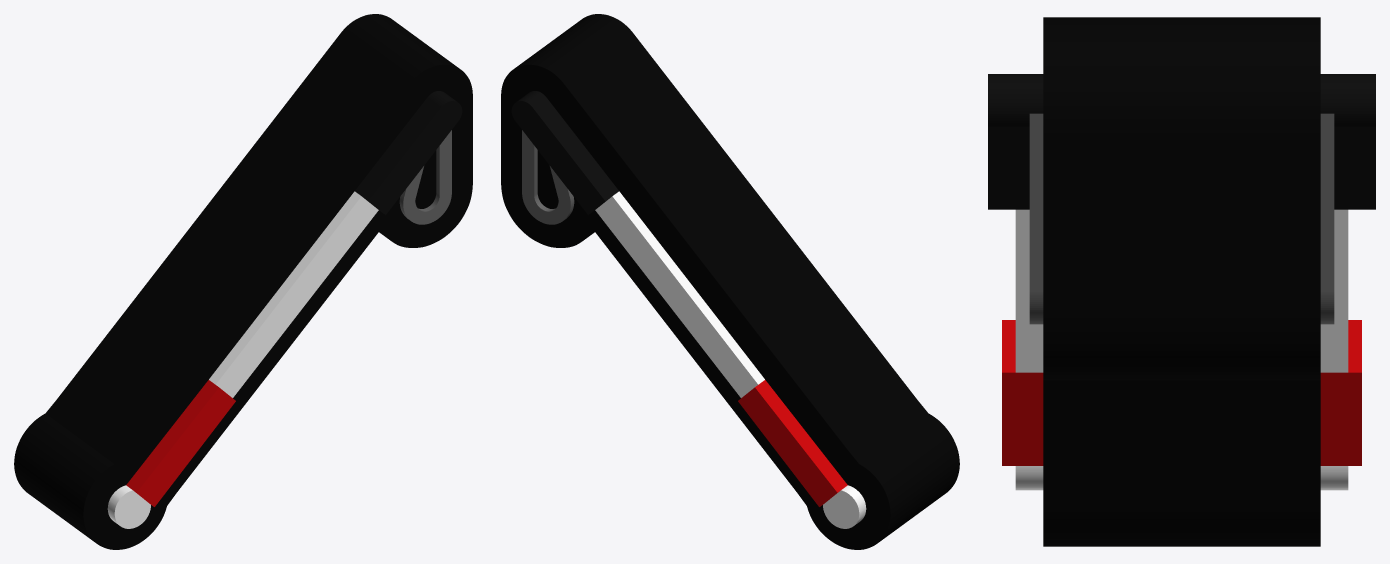
3 views of the same model, side by side, from view 1: azimuth 30°, elevation 25°; view 2: azimuth 150°, elevation 25°; view 3: azimuth 270°, elevation 25° (orthographic). The views are drawn at different scales.
Parts seen in each view (by area): view 1: U+1F9AF_layer00_obj00, U+1F9AF_layer02_obj00, U+1F9AF_layer04_obj00, U+1F9AF_layer03_obj00, U+1F9AF_layer01_obj00; view 2: U+1F9AF_layer00_obj00, U+1F9AF_layer02_obj00, U+1F9AF_layer04_obj00, U+1F9AF_layer03_obj00, U+1F9AF_layer01_obj00; view 3: U+1F9AF_layer00_obj00, U+1F9AF_layer04_obj00, U+1F9AF_layer03_obj00, U+1F9AF_layer02_obj00, U+1F9AF_layer01_obj00.
Part boxes in pixels (x1,y1,x2,y2): U+1F9AF_layer00_obj00: (14,14,472,549); U+1F9AF_layer02_obj00: (107,191,378,528); U+1F9AF_layer04_obj00: (355,91,462,214); U+1F9AF_layer03_obj00: (126,380,235,506); U+1F9AF_layer01_obj00: (399,130,451,224); U+1F9AF_layer00_obj00: (501,14,959,549); U+1F9AF_layer02_obj00: (595,191,866,528); U+1F9AF_layer04_obj00: (511,91,618,214); U+1F9AF_layer03_obj00: (738,380,847,506); U+1F9AF_layer01_obj00: (522,130,574,224); U+1F9AF_layer00_obj00: (1043,17,1320,546); U+1F9AF_layer04_obj00: (988,74,1375,209); U+1F9AF_layer03_obj00: (1002,320,1361,465); U+1F9AF_layer02_obj00: (1015,209,1348,490); U+1F9AF_layer01_obj00: (1029,113,1334,324).
Size of the model in its own units: 0.6491 by 0.649 by 0.28.
